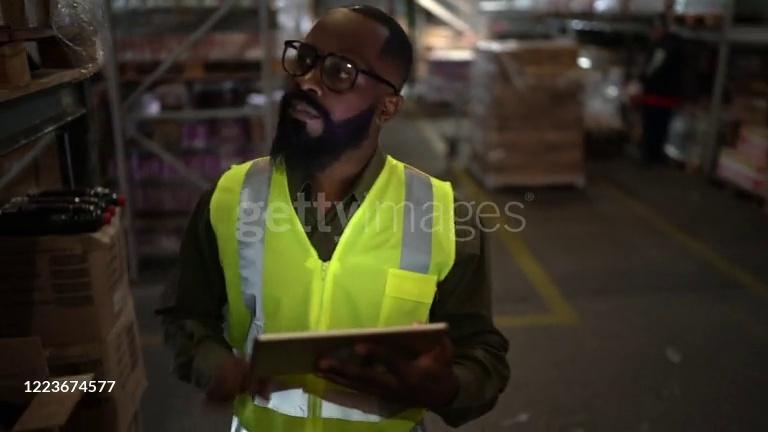person: (157, 5, 514, 432), (629, 15, 699, 168)
